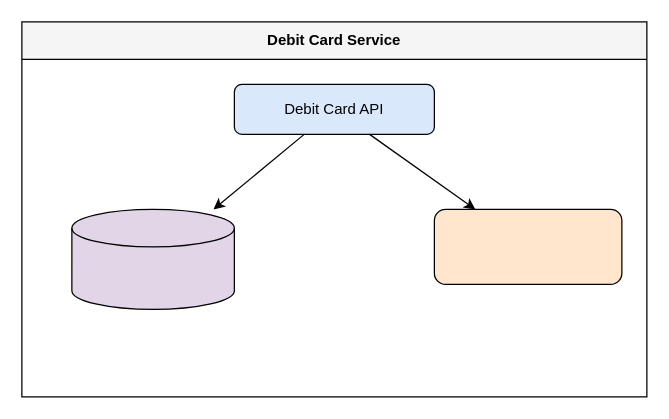
The diagram is 669 pixels wide and 419 high, and some of its shapes have lost their labels. Here are the shapes that lost their labels. From the top down, the box of each, then its label:
(71, 208, 234, 309): MongoDB
(433, 208, 622, 284): Kafka Producer (debit-payment)
